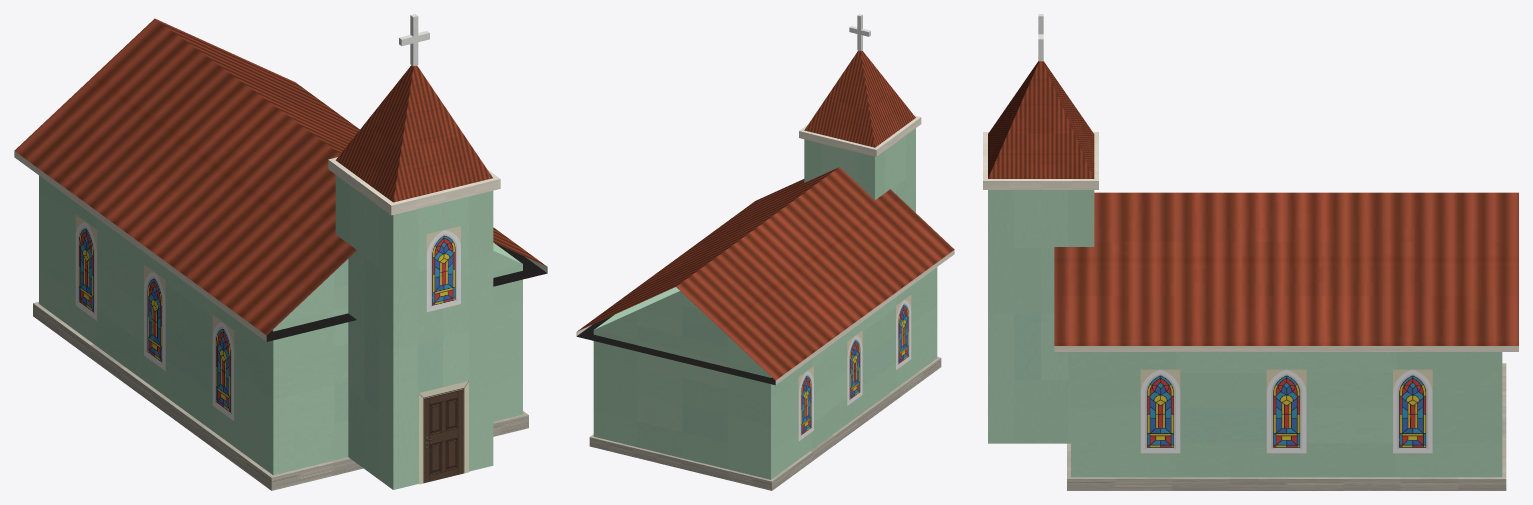
Rendered from church-mint.glb.
3 renders of one model, left to right at view 1: azimuth 30°, elevation 25°; view 2: azimuth 150°, elevation 25°; view 3: azimuth 270°, elevation 25°, orthographic. The views are drawn at different scales.
Parts seen in each view (by area): view 1: church-mint; view 2: church-mint; view 3: church-mint.
Boxes of the visible parts, <box> form: church-mint: <box>14,14,547,490</box>; church-mint: <box>576,14,954,490</box>; church-mint: <box>983,14,1518,490</box>.
Bounding box in the file's own units: 9 × 13.9 × 16.15.
Materials: 1 (1 with a texture image).
